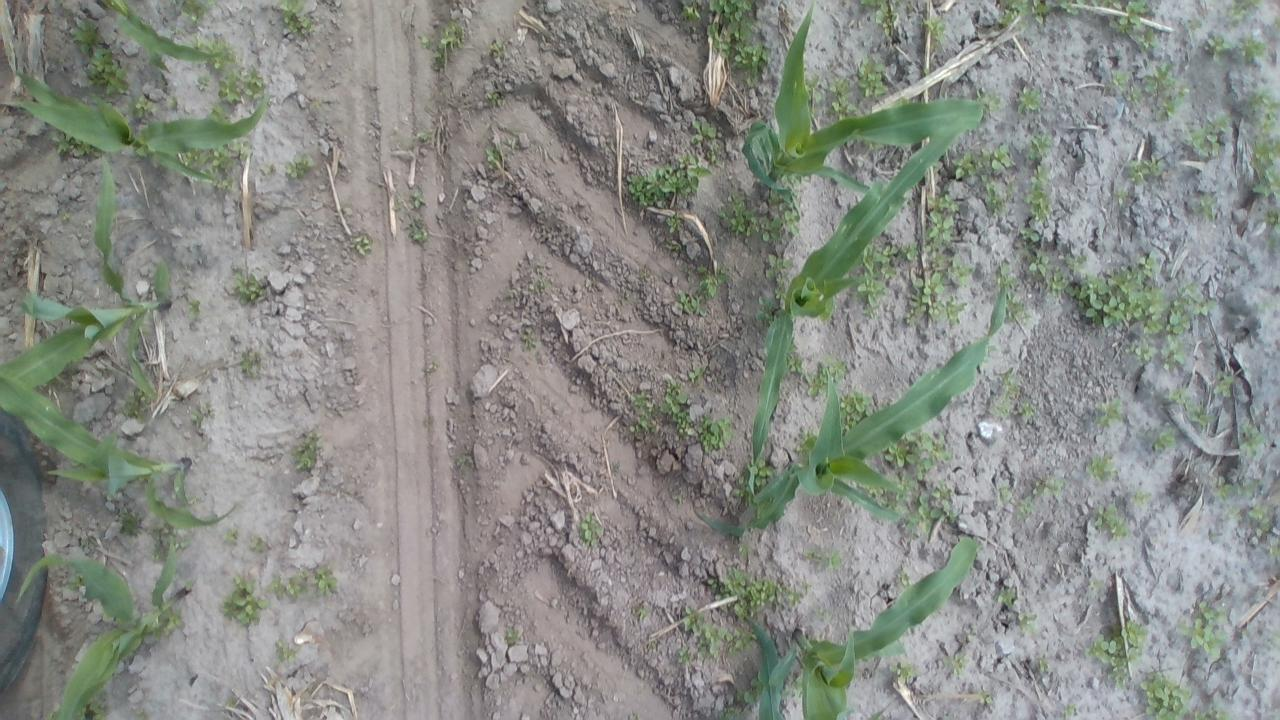Maize: (745, 118, 975, 494), (694, 285, 1008, 534), (1, 326, 236, 528), (741, 2, 986, 182), (769, 533, 980, 720), (0, 155, 172, 382), (18, 535, 192, 720), (9, 65, 267, 184), (95, 0, 223, 61), (743, 616, 784, 718)
Weeds: (1070, 250, 1164, 322), (629, 156, 710, 204), (708, 566, 784, 616), (1004, 0, 1146, 26), (1255, 88, 1280, 202), (1164, 384, 1214, 428), (220, 578, 266, 624), (904, 295, 968, 328), (954, 143, 1014, 178), (1168, 288, 1212, 334), (1142, 677, 1190, 719), (910, 434, 951, 480), (928, 210, 952, 284), (660, 383, 694, 432), (1091, 634, 1128, 678), (1190, 117, 1228, 159), (1190, 600, 1219, 654), (1029, 158, 1050, 220), (699, 627, 747, 653), (1117, 18, 1157, 49), (1140, 57, 1174, 92), (698, 418, 732, 452), (858, 54, 886, 94), (1094, 502, 1126, 536), (865, 245, 918, 265), (85, 48, 118, 80), (734, 42, 766, 75), (861, 0, 900, 26), (294, 430, 318, 471), (278, 0, 309, 30), (1238, 29, 1262, 67), (684, 612, 718, 638), (218, 74, 244, 106), (710, 1, 751, 21), (690, 117, 719, 145), (1204, 31, 1232, 60), (1240, 424, 1266, 455), (764, 245, 790, 276), (312, 564, 337, 596), (706, 22, 750, 40), (842, 390, 873, 415), (176, 0, 214, 20), (1159, 334, 1184, 364), (1096, 401, 1120, 432), (286, 154, 314, 180), (1156, 91, 1181, 120), (232, 274, 262, 298), (1128, 159, 1162, 180), (69, 18, 96, 44), (102, 68, 130, 93), (916, 494, 944, 519), (914, 273, 944, 296), (1236, 92, 1262, 118), (1130, 340, 1158, 364), (805, 364, 825, 397), (118, 507, 142, 534), (1086, 454, 1110, 480), (948, 260, 972, 286), (700, 272, 724, 297), (679, 292, 704, 316), (861, 283, 887, 306), (829, 94, 855, 117), (808, 550, 841, 568), (1044, 266, 1071, 288), (1151, 426, 1175, 450), (582, 513, 602, 541), (1020, 91, 1044, 114), (1219, 481, 1260, 494), (1213, 368, 1232, 396), (924, 18, 946, 42), (781, 205, 799, 234), (250, 534, 268, 563), (989, 395, 1013, 416), (242, 349, 260, 376), (936, 192, 960, 212), (982, 176, 998, 206), (406, 222, 428, 243), (762, 218, 782, 241), (1066, 250, 1089, 270), (1199, 192, 1216, 219), (1032, 135, 1056, 154), (1038, 476, 1062, 494), (888, 444, 908, 465), (1018, 496, 1034, 522), (1111, 69, 1128, 93), (285, 578, 302, 602), (1128, 620, 1144, 644), (353, 235, 373, 254), (247, 64, 264, 86), (1192, 708, 1222, 720), (148, 528, 166, 548), (1126, 490, 1152, 503), (1032, 255, 1048, 276), (441, 26, 456, 48), (1265, 207, 1280, 229), (746, 212, 764, 230), (1021, 226, 1040, 243), (128, 393, 144, 413), (630, 392, 646, 412), (716, 34, 731, 55), (1234, 0, 1258, 13), (213, 149, 230, 167), (89, 703, 107, 720), (1018, 396, 1034, 415), (832, 78, 851, 94), (996, 587, 1016, 602), (952, 650, 967, 670), (276, 638, 292, 656), (635, 410, 651, 428), (271, 578, 285, 598), (729, 216, 746, 232), (736, 687, 754, 702), (1018, 610, 1036, 625), (665, 217, 684, 231), (760, 460, 772, 482), (682, 6, 702, 19), (937, 485, 953, 501), (881, 264, 897, 280), (889, 662, 910, 674), (678, 646, 692, 664), (1002, 369, 1016, 387), (224, 529, 242, 543), (136, 97, 152, 112), (192, 408, 206, 425), (168, 613, 182, 630), (1142, 322, 1163, 333), (708, 143, 719, 162), (508, 628, 519, 646), (198, 76, 212, 90), (412, 193, 426, 207), (246, 86, 260, 99), (734, 202, 747, 216), (524, 329, 534, 347), (456, 456, 473, 466), (187, 300, 200, 313), (418, 36, 432, 48), (60, 137, 71, 152), (689, 368, 702, 380), (485, 150, 497, 162), (774, 286, 784, 300), (638, 606, 648, 620), (219, 178, 231, 189), (1037, 660, 1049, 670), (946, 510, 956, 522), (739, 542, 748, 552), (300, 570, 308, 580), (177, 542, 188, 549)
